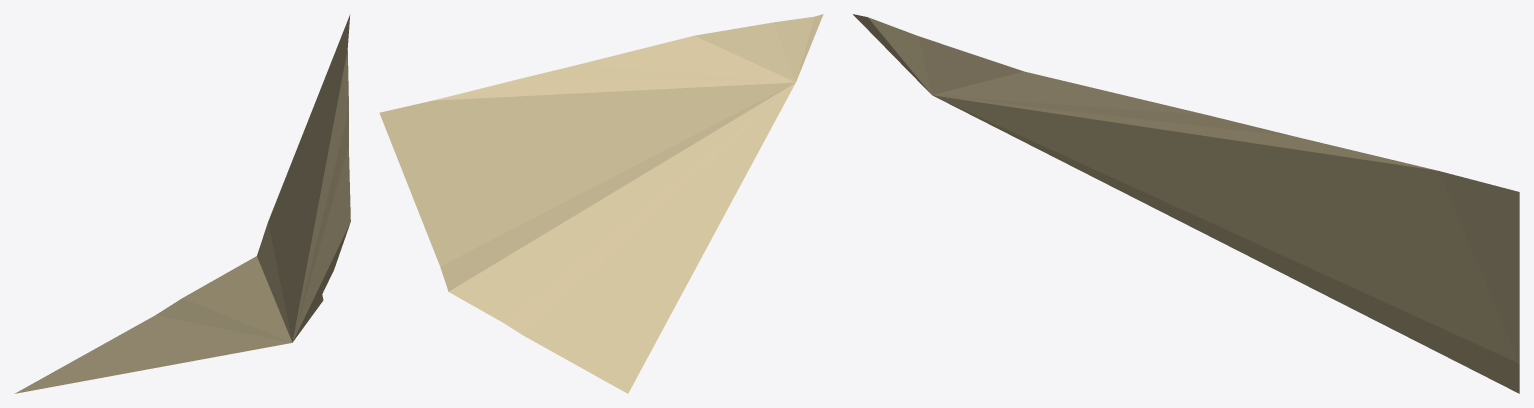
File: bisect-0-4-7.gltf
3 renders of one model, left to right at view 1: azimuth 30°, elevation 25°; view 2: azimuth 150°, elevation 25°; view 3: azimuth 270°, elevation 25°, orthographic. The views are drawn at different scales.
Parts seen in each view (by area): view 1: bisect-0-4-7; view 2: bisect-0-4-7; view 3: bisect-0-4-7.
Part boxes in pixels (x1,y1,x2,y2): bisect-0-4-7: (14,14,350,393); bisect-0-4-7: (379,14,823,393); bisect-0-4-7: (853,14,1519,393).
Size of the model in its own units: 4.72 by 3.99 by 6.97.
